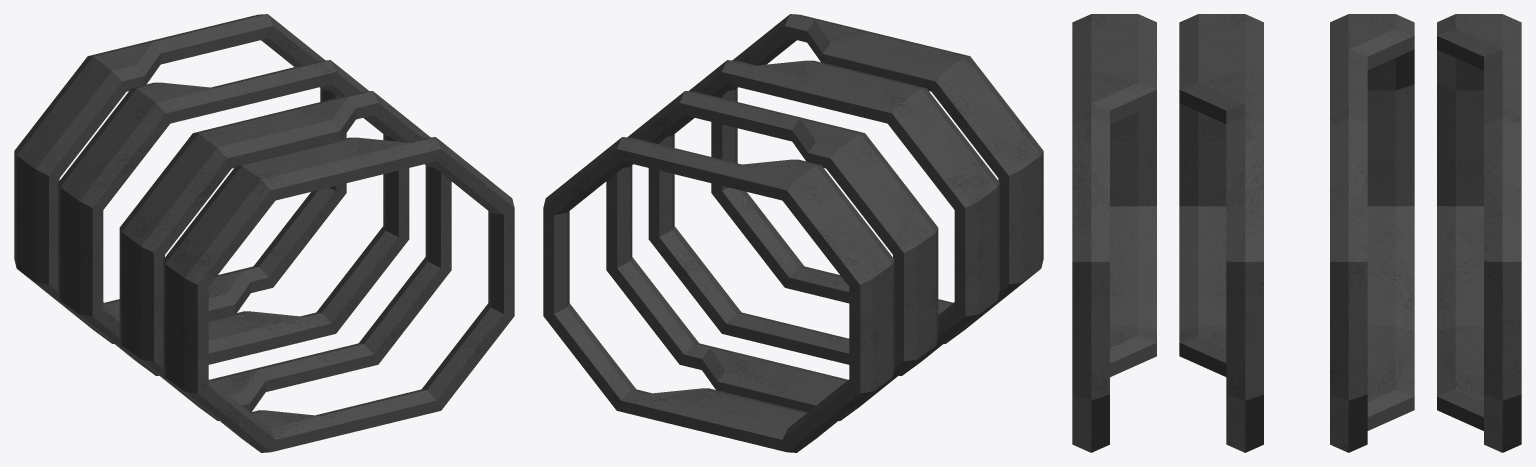
File: pipe_cover.fbx
The picture shows the model from 3 angles, left to right: view 1: azimuth 30°, elevation 25°; view 2: azimuth 150°, elevation 25°; view 3: azimuth 270°, elevation 25°; orthographic projection. The views are drawn at different scales.
Parts seen in each view (by area): view 1: pipe_cover; view 2: pipe_cover; view 3: pipe_cover.
Part boxes in pixels (left/top/right/bottom): pipe_cover: left=14, top=14, right=514, bottom=452; pipe_cover: left=543, top=14, right=1043, bottom=452; pipe_cover: left=1072, top=14, right=1521, bottom=452.
Size of the model in its own units: 197 by 157 by 191.
